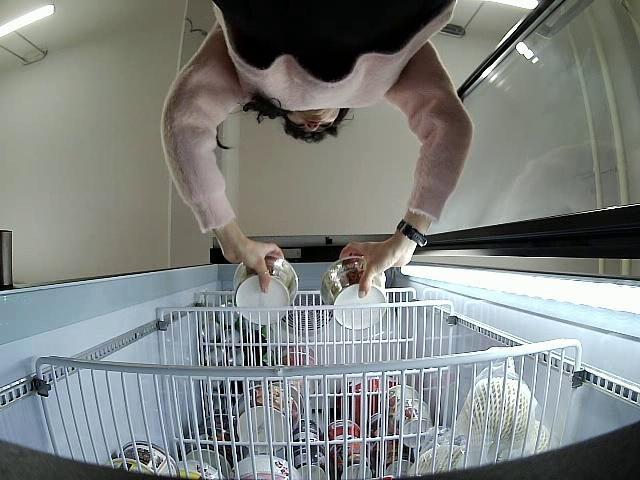03_chapagetti_L: (321, 258, 388, 330), (232, 257, 300, 326)
